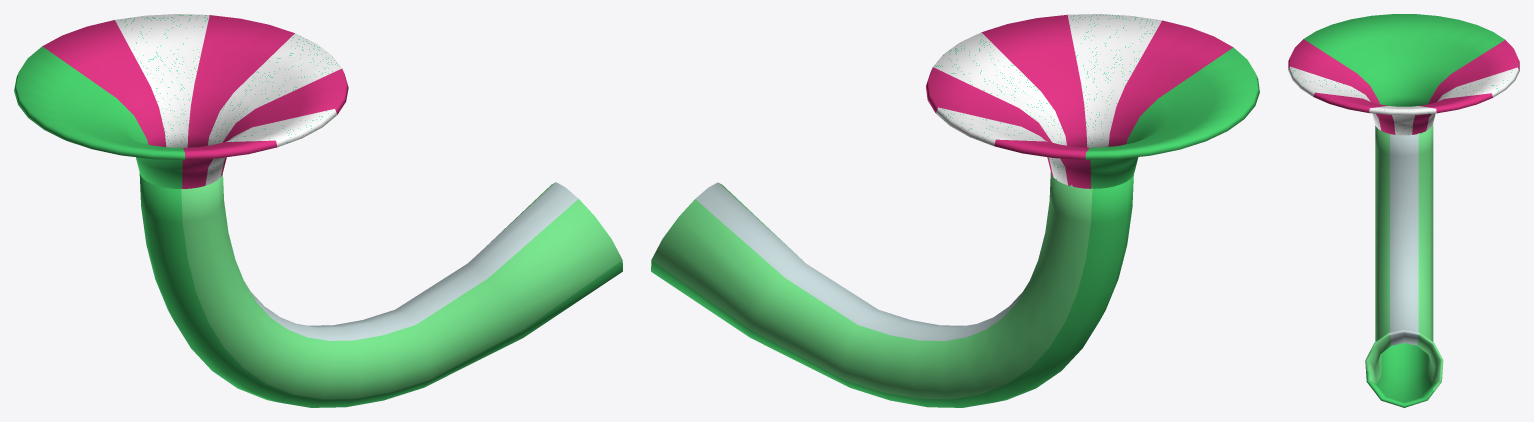
Rendered from Turnip_Pipe2.fbx.
3 views of the same model, side by side, from view 1: azimuth 30°, elevation 25°; view 2: azimuth 150°, elevation 25°; view 3: azimuth 270°, elevation 25° (orthographic). The views are drawn at different scales.
Parts seen in each view (by area): view 1: ElbowPipe2, Turnip; view 2: ElbowPipe2, Turnip; view 3: Turnip, ElbowPipe2.
Part boxes in pixels (x1,y1,x2,y2): ElbowPipe2: [139, 173, 622, 407]; Turnip: [14, 14, 348, 188]; ElbowPipe2: [651, 171, 1133, 407]; Turnip: [926, 14, 1259, 188]; Turnip: [1288, 14, 1519, 135]; ElbowPipe2: [1365, 124, 1443, 407].
Size of what is drawn, in the model's own units: 191 by 96.08 by 115.
